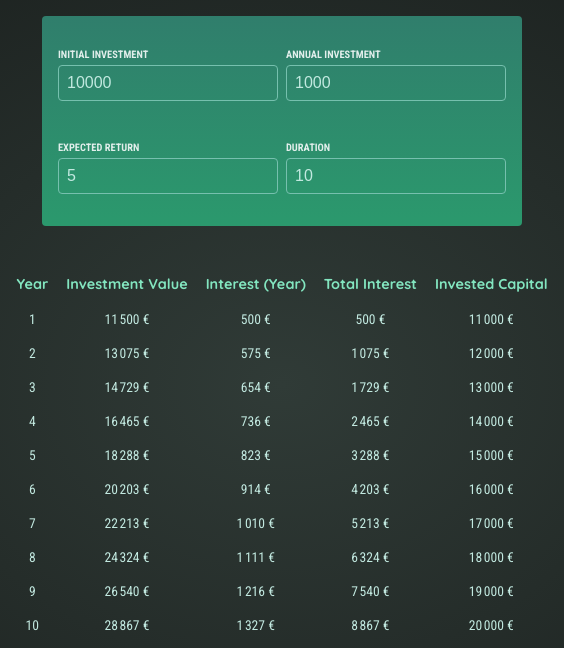
it: Results component › render warning if duration is less than 1
The width and height of the screenshot is (564, 648).
Clear the number field with test id "inputs-duration-input" at (396, 176), box x1=286 y1=158 x2=506 y2=194
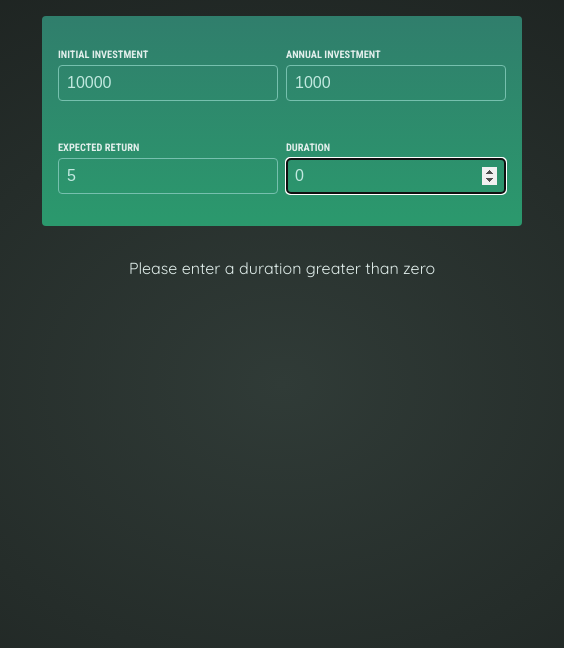
Expected: the text "Please enter a duration greater than zero" is shown, x1=129 y1=258 x2=435 y2=278
